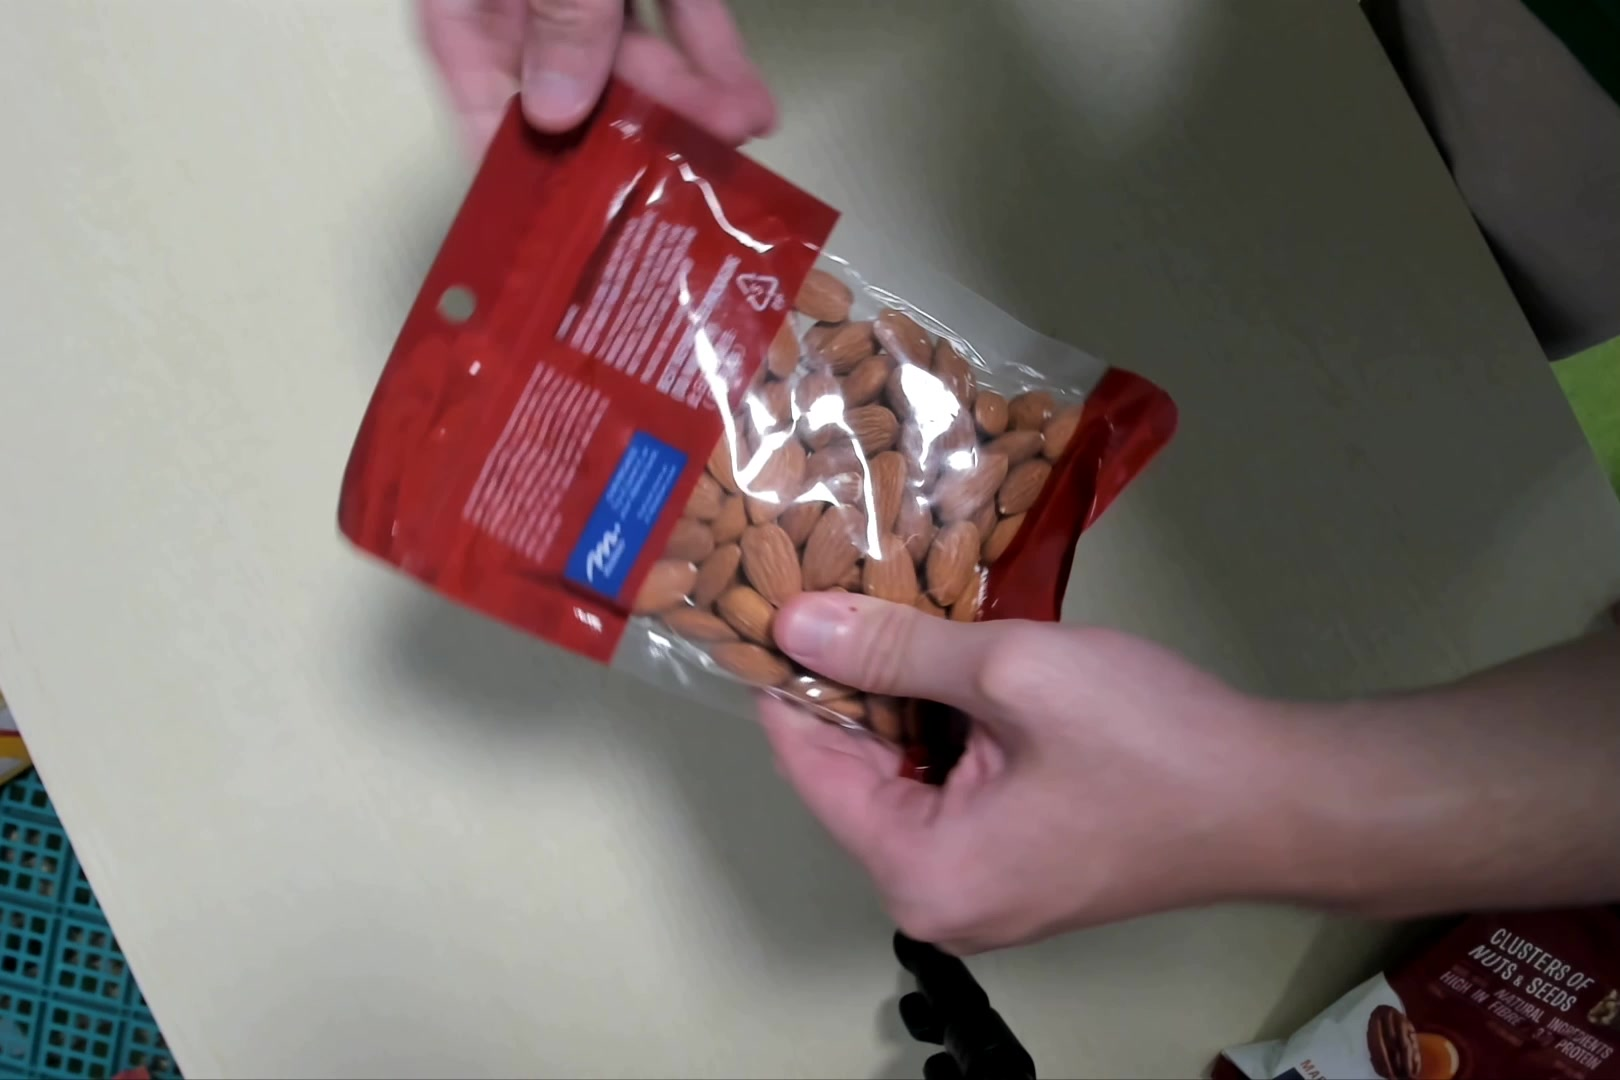Nuts_100-199g_NonHalal_NonHealthy: (306, 69, 1178, 792)
